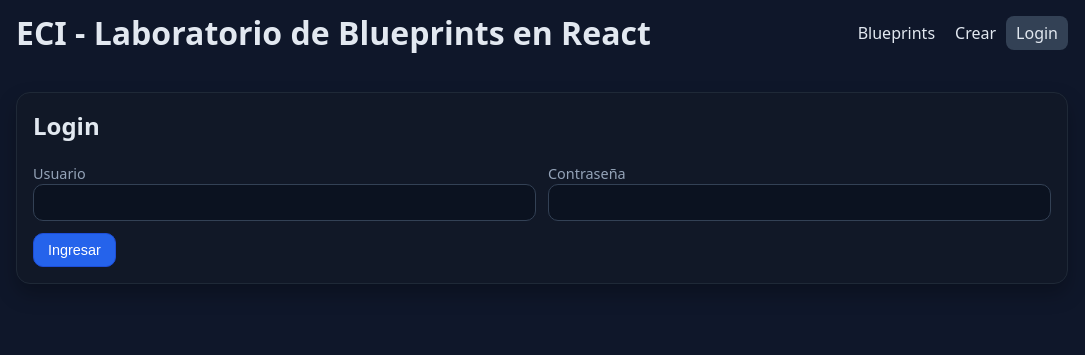
Test: Rutas protegidas (PrivateRoute + JWT) › con credenciales inválidas muestra el error y no guarda token
Type "student" into the field labelled "Usuario".
click(284, 202); type("student")  # box [33, 184, 536, 221]
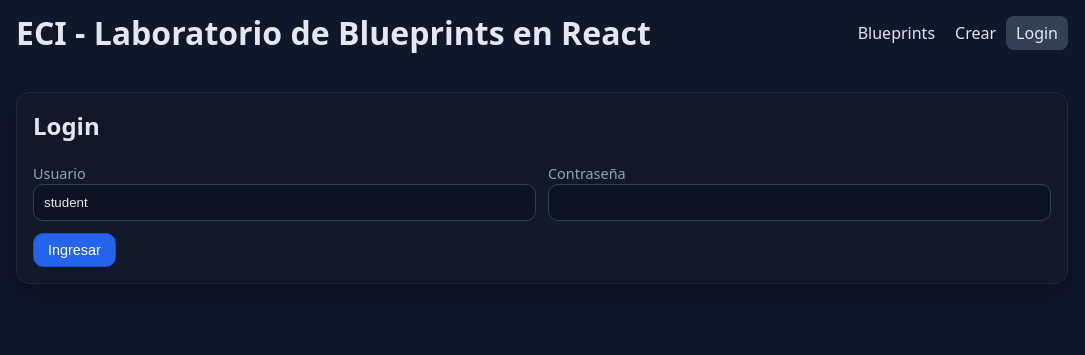
Type "mala" into the password field labelled "Contraseña".
click(800, 202); type("mala")  # box [548, 184, 1051, 221]
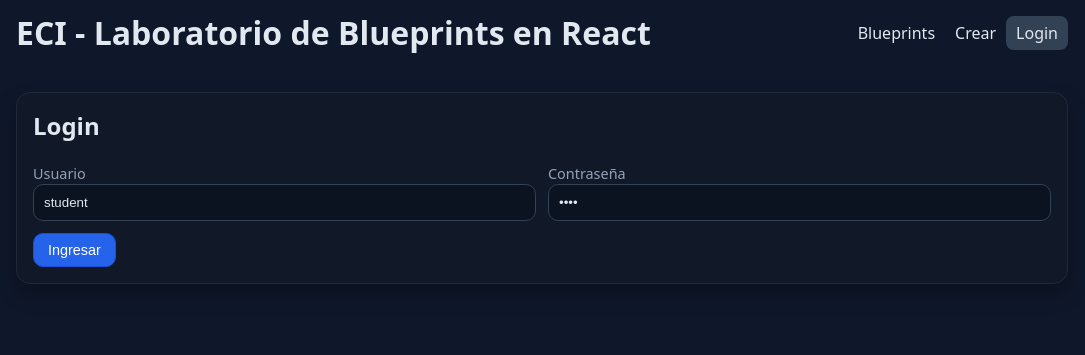
Click the button "Ingresar".
click(74, 250)  # box [33, 233, 116, 267]
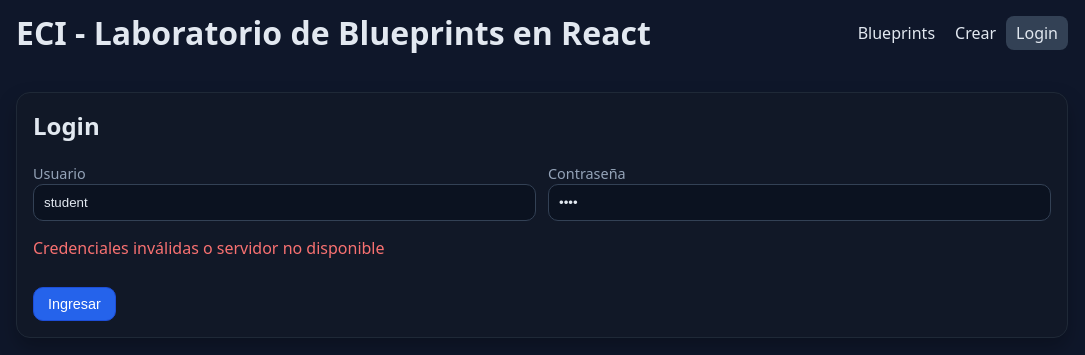
Expected: the message shows "Credenciales inválidas", [33, 237, 384, 259]
